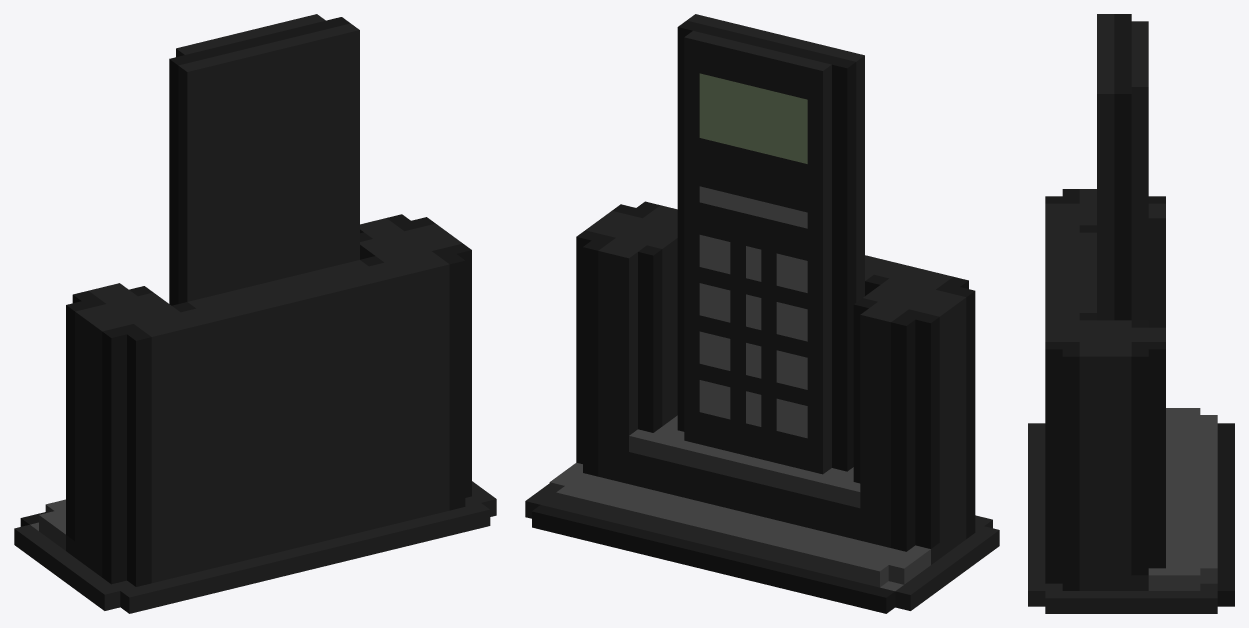
The model's file is Phone.obj.
3 views of the same model, side by side, from view 1: azimuth 30°, elevation 25°; view 2: azimuth 150°, elevation 25°; view 3: azimuth 270°, elevation 25° (orthographic). The views are drawn at different scales.
Bounding box in the file's own units: 2.5 × 3 × 1.2.
Materials: 1 (1 with a texture image).
